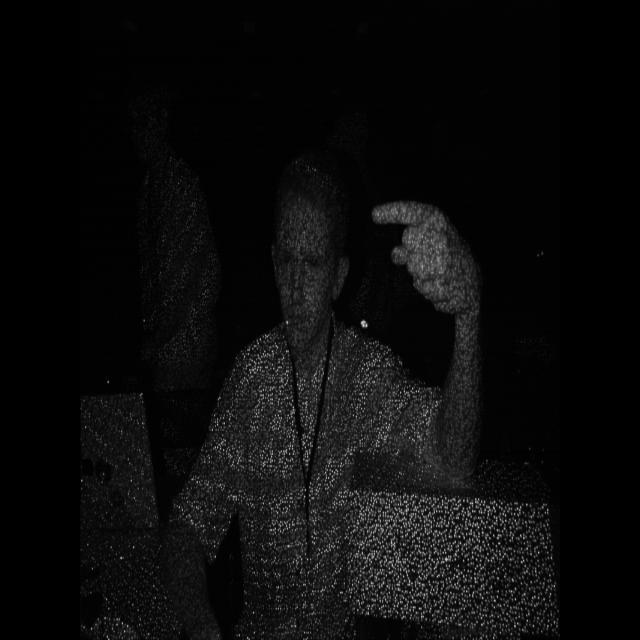G: (359, 164, 502, 344)
